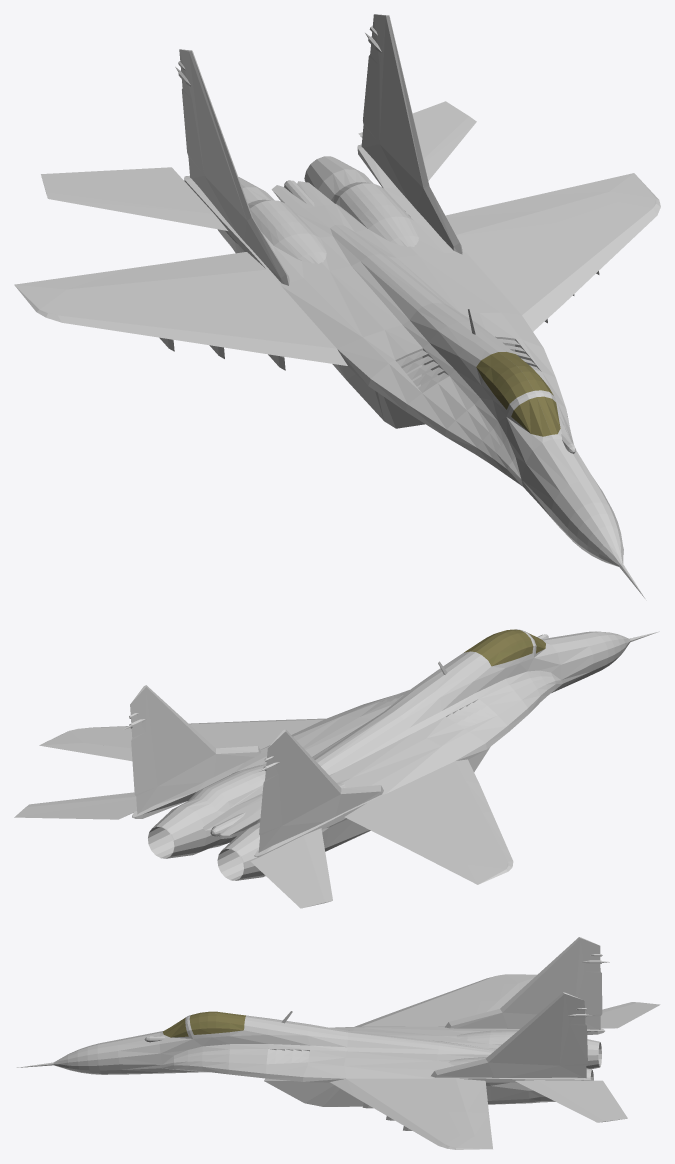
Rendered from jet.obj.
3 renders of one model, top to bottom at view 1: azimuth 30°, elevation 25°; view 2: azimuth 150°, elevation 25°; view 3: azimuth 270°, elevation 25°, orthographic. The views are drawn at different scales.
Visible parts, largest first — view 1: LOD0, ElevatorR01, ElevatorL01, Glass_Canopy01, FlapR01, FlapL01, Glass01, Canopy01, BrakeL01, AileronR01, RudderL01, VoletR02 (+6 smaller); view 2: LOD0, ElevatorR01, ElevatorL01, EngineL01, EngineR01, FlapR01, Glass_Canopy01, RudderL01, RudderR01, Canopy01, BrakeL01, AileronR01 (+1 smaller); view 3: LOD0, ElevatorL01, Glass_Canopy01, RudderL01, ElevatorR01, FlapL01, RudderR01, Canopy01, AileronL01, EngineR01, VoletL02, VoletL01.
Boxes of the visible parts, bbox=[...] form: LOD0: bbox=[14, 14, 660, 599]; ElevatorR01: bbox=[41, 167, 227, 230]; ElevatorL01: bbox=[358, 101, 476, 180]; Glass_Canopy01: bbox=[476, 352, 553, 409]; FlapR01: bbox=[134, 252, 266, 281]; FlapL01: bbox=[445, 196, 544, 234]; Glass01: bbox=[511, 396, 560, 436]; Canopy01: bbox=[459, 340, 554, 416]; BrakeL01: bbox=[271, 180, 334, 211]; AileronR01: bbox=[56, 268, 147, 289]; RudderL01: bbox=[363, 55, 379, 143]; VoletR02: bbox=[193, 331, 280, 355]; LOD0: bbox=[39, 631, 659, 884]; ElevatorR01: bbox=[250, 828, 332, 908]; ElevatorL01: bbox=[14, 792, 136, 819]; EngineL01: bbox=[148, 806, 206, 858]; EngineR01: bbox=[217, 828, 265, 880]; FlapR01: bbox=[344, 802, 426, 849]; Glass_Canopy01: bbox=[464, 629, 533, 666]; RudderL01: bbox=[131, 732, 157, 796]; RudderR01: bbox=[259, 774, 281, 835]; Canopy01: bbox=[443, 629, 534, 681]; BrakeL01: bbox=[203, 808, 260, 835]; AileronR01: bbox=[409, 839, 467, 872]; LOD0: bbox=[16, 937, 609, 1149]; ElevatorL01: bbox=[515, 1080, 627, 1122]; Glass_Canopy01: bbox=[189, 1011, 245, 1034]; RudderL01: bbox=[560, 1024, 587, 1065]; ElevatorR01: bbox=[600, 1002, 660, 1028]; FlapL01: bbox=[456, 1078, 488, 1113]; RudderR01: bbox=[578, 971, 602, 1016]; Canopy01: bbox=[187, 1015, 270, 1038]; AileronL01: bbox=[466, 1112, 491, 1136]; EngineR01: bbox=[586, 1039, 601, 1069]; VoletL02: bbox=[356, 1092, 396, 1114]; VoletL01: bbox=[386, 1112, 431, 1137].
Size of the model in its own units: 77.34 by 28.9 by 120.
